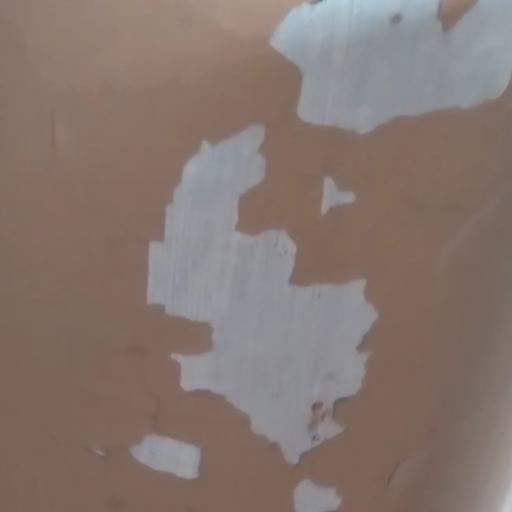peeling: (102, 98, 376, 512), (259, 0, 512, 146)
